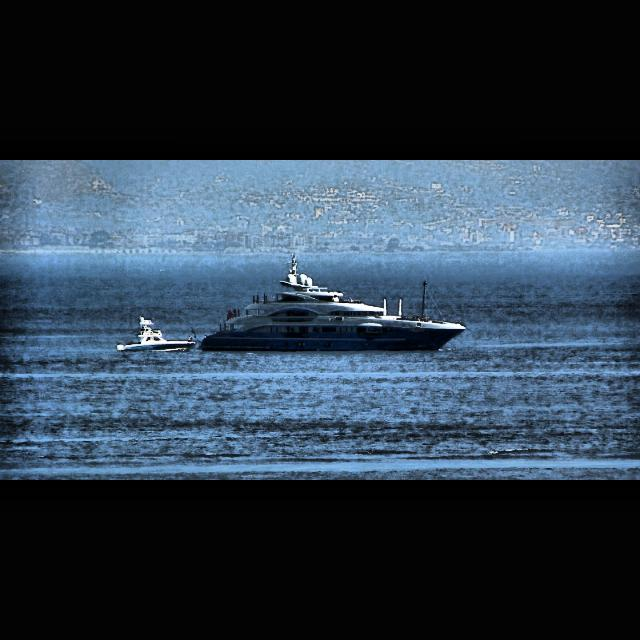yacht: (199, 269, 466, 353)
